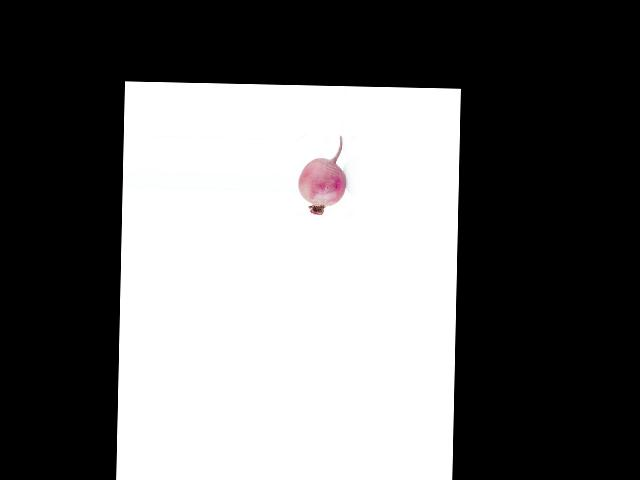beet: (298, 135, 347, 215)
